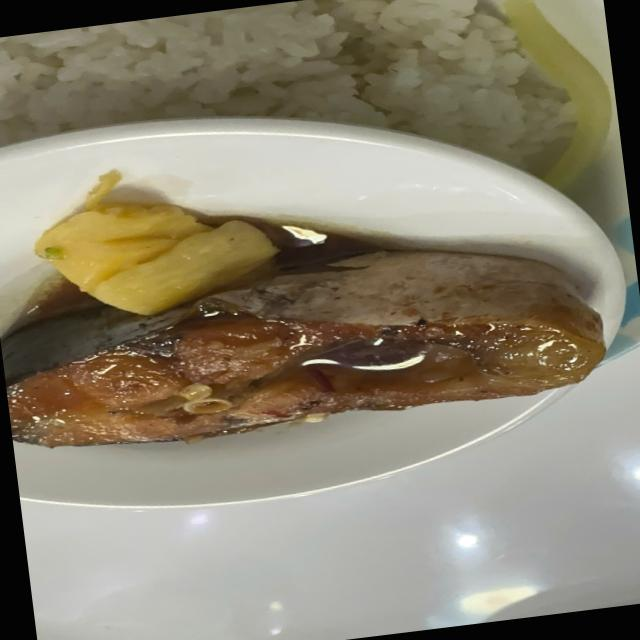ca kho: (1, 251, 604, 447)
